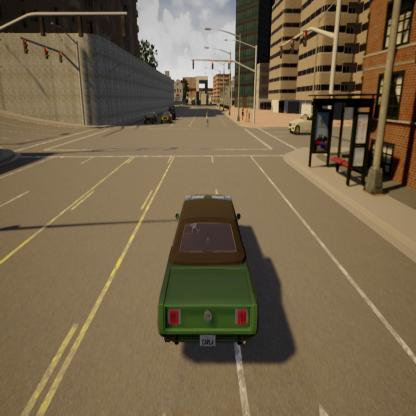Cars: (154, 186, 262, 367), (284, 108, 328, 138), (160, 108, 177, 125), (144, 108, 157, 127), (165, 103, 178, 120)
Pedestrian: (202, 108, 212, 131), (241, 104, 246, 123), (245, 105, 249, 124)
